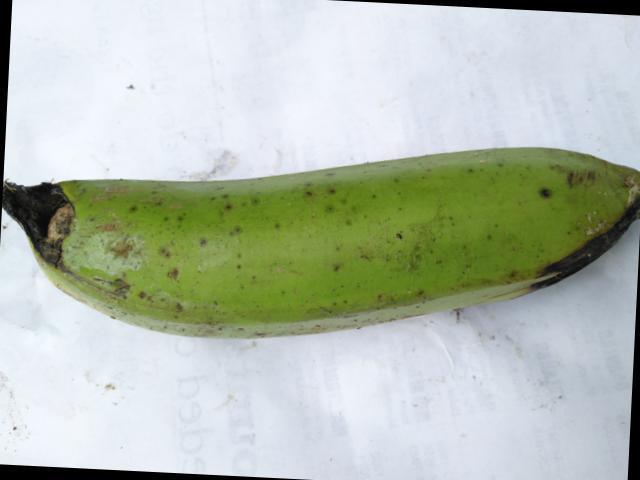unripe: (84, 132, 639, 350)
